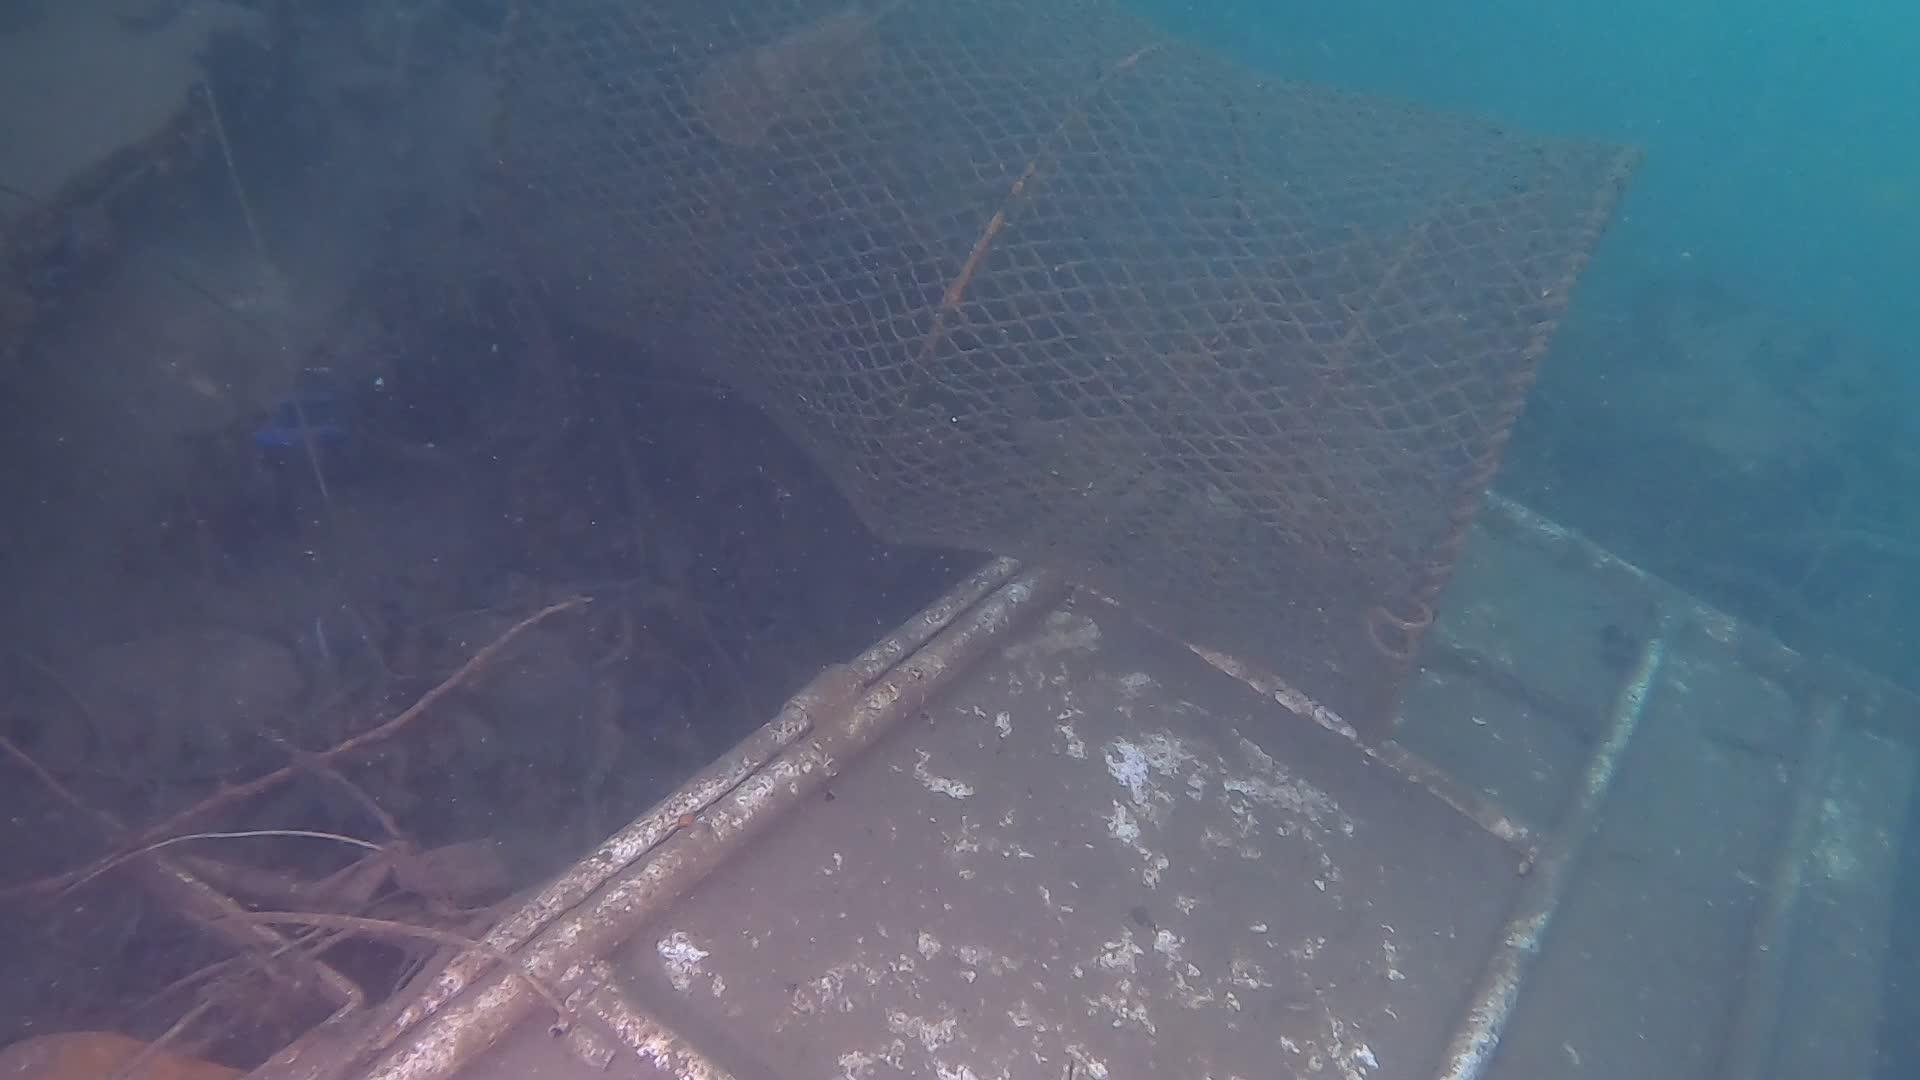spring fish trap: (483, 0, 1636, 742)
